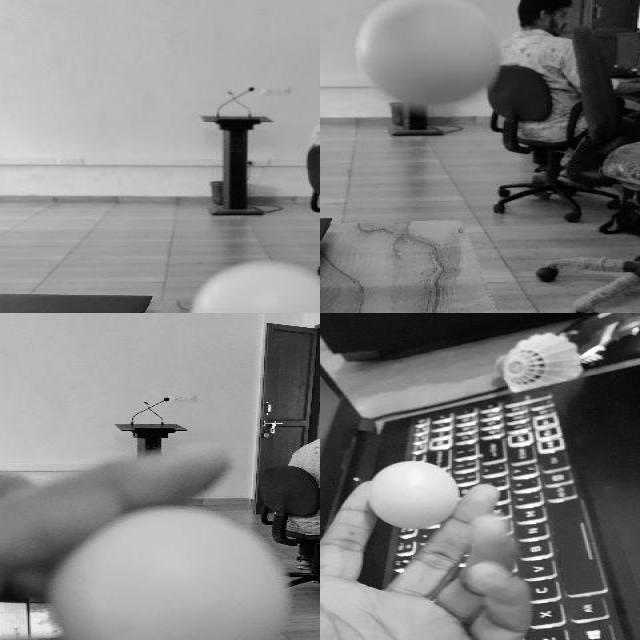ping-pong-ball: (48, 507, 294, 639), (357, 0, 500, 103), (188, 261, 318, 312), (372, 460, 455, 530)
